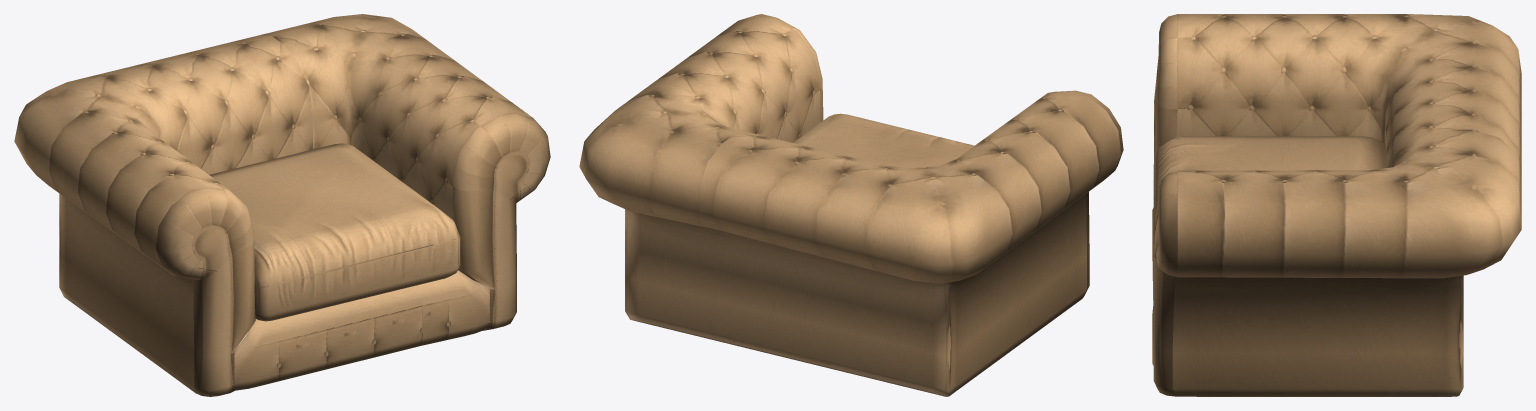
Rendered from One_Seater_Sofa_03.fbx.
The picture shows the model from 3 angles, left to right: view 1: azimuth 30°, elevation 25°; view 2: azimuth 150°, elevation 25°; view 3: azimuth 270°, elevation 25°; orthographic projection. The views are drawn at different scales.
Visible parts, largest first — view 1: Sofa.002; view 2: Sofa.002; view 3: Sofa.002.
Boxes of the visible parts, left/top/right/bottom form: Sofa.002: left=14, top=14, right=550, bottom=396; Sofa.002: left=579, top=14, right=1123, bottom=396; Sofa.002: left=1152, top=14, right=1521, bottom=396.
Bounding box in the file's own units: 144 × 72.3 × 110.
1 material, 1 textured.
